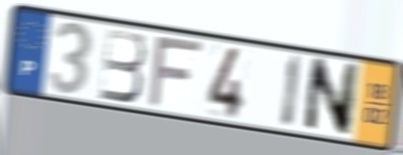3: (47, 20, 97, 97)
4: (204, 44, 247, 122)
B: (97, 26, 149, 105)
F: (145, 35, 207, 110)
I: (279, 51, 305, 132)
N: (301, 54, 362, 139)
